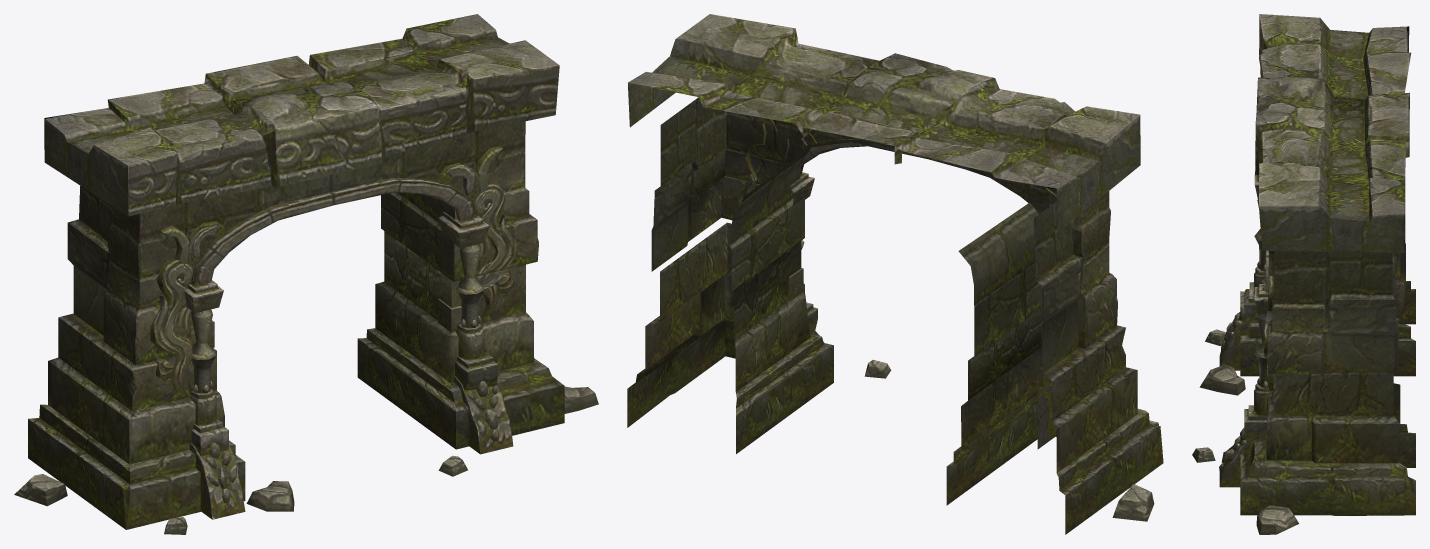
Rendered from 4009_Item_qiang_1.FBX.
3 renders of one model, left to right at view 1: azimuth 30°, elevation 25°; view 2: azimuth 150°, elevation 25°; view 3: azimuth 270°, elevation 25°, orthographic. The views are drawn at different scales.
Visible parts, largest first — view 1: 4009_Item_qiang_1; view 2: 4009_Item_qiang_1; view 3: 4009_Item_qiang_1.
Boxes of the visible parts, x1,y1,x2,y2 form: 4009_Item_qiang_1: (14,14,598,534); 4009_Item_qiang_1: (627,14,1163,534); 4009_Item_qiang_1: (1192,14,1415,534).
Size of the model in its own units: 733 by 477 by 300.
